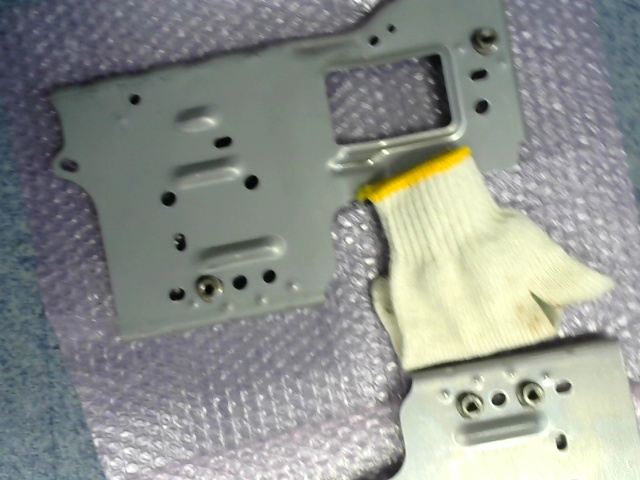dog: (470, 27, 500, 56), (195, 275, 224, 304), (516, 380, 544, 409), (458, 391, 484, 422)
